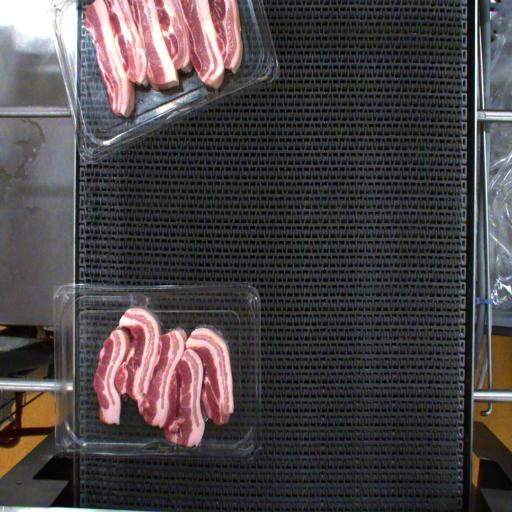packaging-error: (124, 292, 154, 308)
unsealed: (163, 320, 230, 345)
